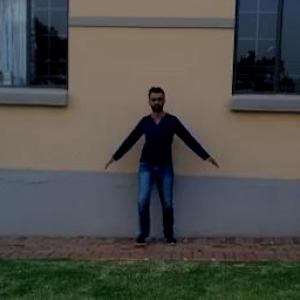land: (107, 90, 218, 260)
